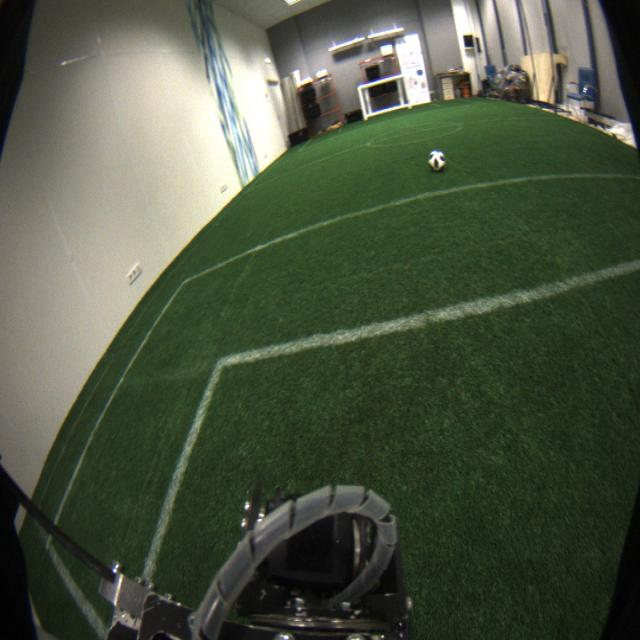ball: (427, 148, 446, 173)
goalpost: (403, 73, 414, 109), (357, 85, 368, 121)
